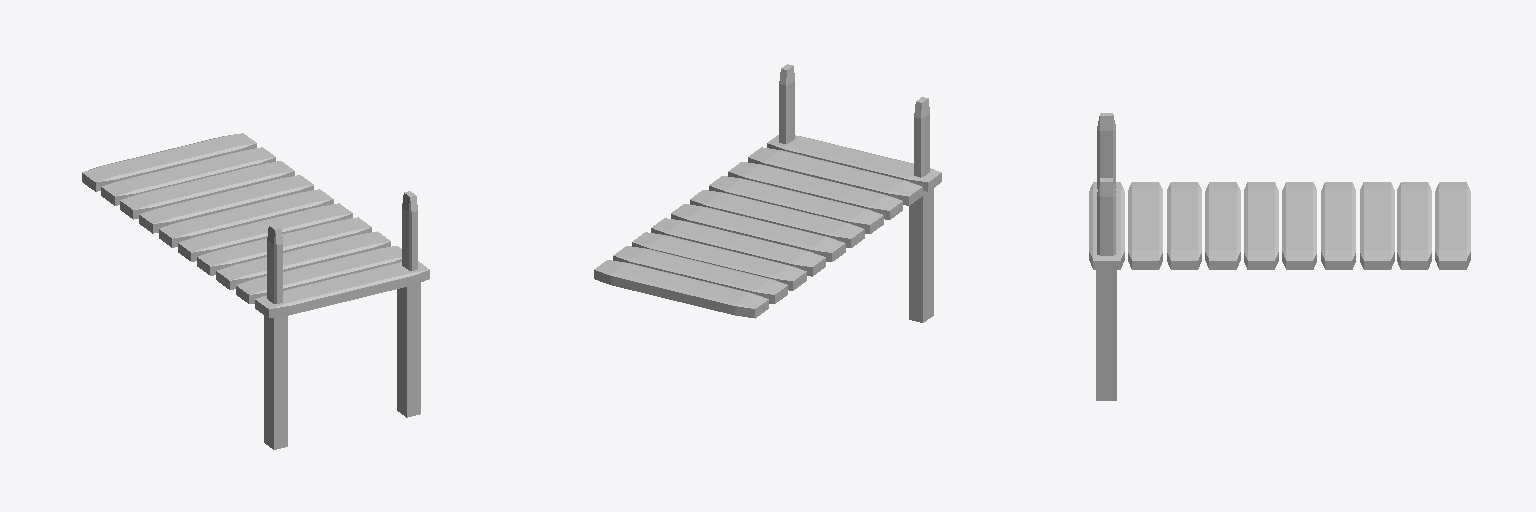
The model's file is bridge.obj.
3 renders of one model, left to right at view 1: azimuth 30°, elevation 25°; view 2: azimuth 150°, elevation 25°; view 3: azimuth 270°, elevation 25°, orthographic.
Parts seen in each view (by area): view 1: Cube.011, Cube.005, Cube.006, Cube.004, Cube.012, Cube.014, Cube.016, Cube.013, Cube.007, Cube.009, Cube.008, Cube.010 (+2 smaller); view 2: Cube.012, Cube.010, Cube.006, Cube.013, Cube.007, Cube.009, Cube.005, Cube.008, Cube.014, Cube.004, Cube.011, Cube.015 (+1 smaller); view 3: Cube.008, Cube.012, Cube.005, Cube.006, Cube.009, Cube.004, Cube.007, Cube.010, Cube.013, Cube.016, Cube.011, Cube.002 (+1 smaller).
Boxes of the visible parts, x1,y1,x2,y2 form: Cube.011: [255, 261, 429, 318]; Cube.005: [139, 175, 313, 233]; Cube.006: [159, 189, 333, 247]; Cube.004: [120, 161, 294, 219]; Cube.012: [82, 133, 256, 191]; Cube.014: [264, 316, 287, 449]; Cube.016: [397, 283, 420, 417]; Cube.013: [101, 147, 275, 205]; Cube.007: [178, 203, 352, 261]; Cube.009: [216, 231, 390, 289]; Cube.008: [197, 217, 371, 275]; Cube.010: [236, 246, 401, 303]; Cube.012: [594, 260, 768, 318]; Cube.010: [748, 147, 922, 205]; Cube.006: [671, 204, 845, 261]; Cube.013: [613, 246, 787, 303]; Cube.007: [690, 190, 864, 247]; Cube.009: [728, 162, 902, 219]; Cube.005: [651, 218, 825, 276]; Cube.008: [709, 176, 883, 233]; Cube.014: [909, 188, 933, 322]; Cube.004: [632, 232, 806, 290]; Cube.011: [767, 135, 941, 191]; Cube.015: [914, 97, 929, 177]; Cube.008: [1205, 182, 1240, 269]; Cube.012: [1435, 182, 1470, 269]; Cube.005: [1321, 182, 1355, 269]; Cube.006: [1282, 182, 1316, 269]; Cube.009: [1167, 182, 1201, 269]; Cube.004: [1360, 182, 1394, 269]; Cube.007: [1244, 182, 1278, 269]; Cube.010: [1128, 182, 1162, 269]; Cube.013: [1397, 182, 1431, 269]; Cube.016: [1096, 270, 1116, 400]; Cube.011: [1089, 182, 1124, 269]; Cube.002: [1097, 178, 1115, 255].
Bounding box in the file's own units: 5.67 × 7.31 × 11.59.